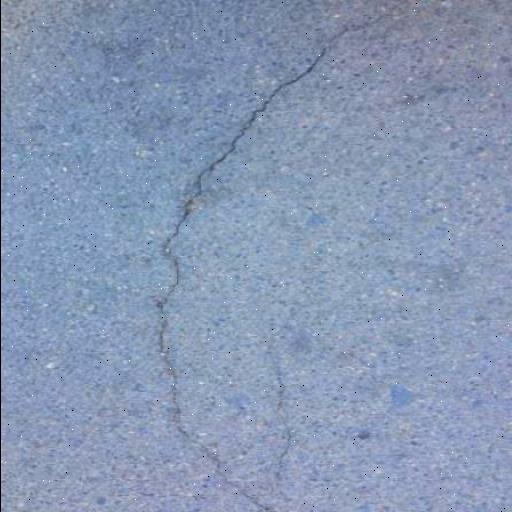spalling: (141, 7, 359, 504)
